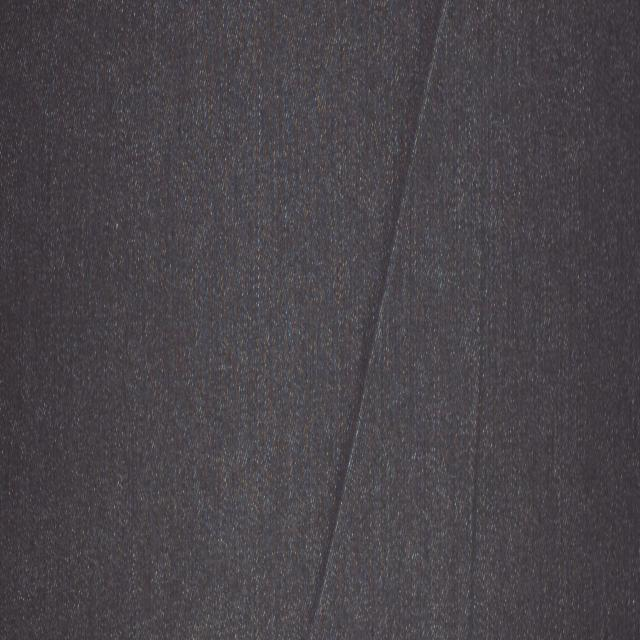broken_yarn: (310, 124, 418, 620), (416, 0, 445, 121)
